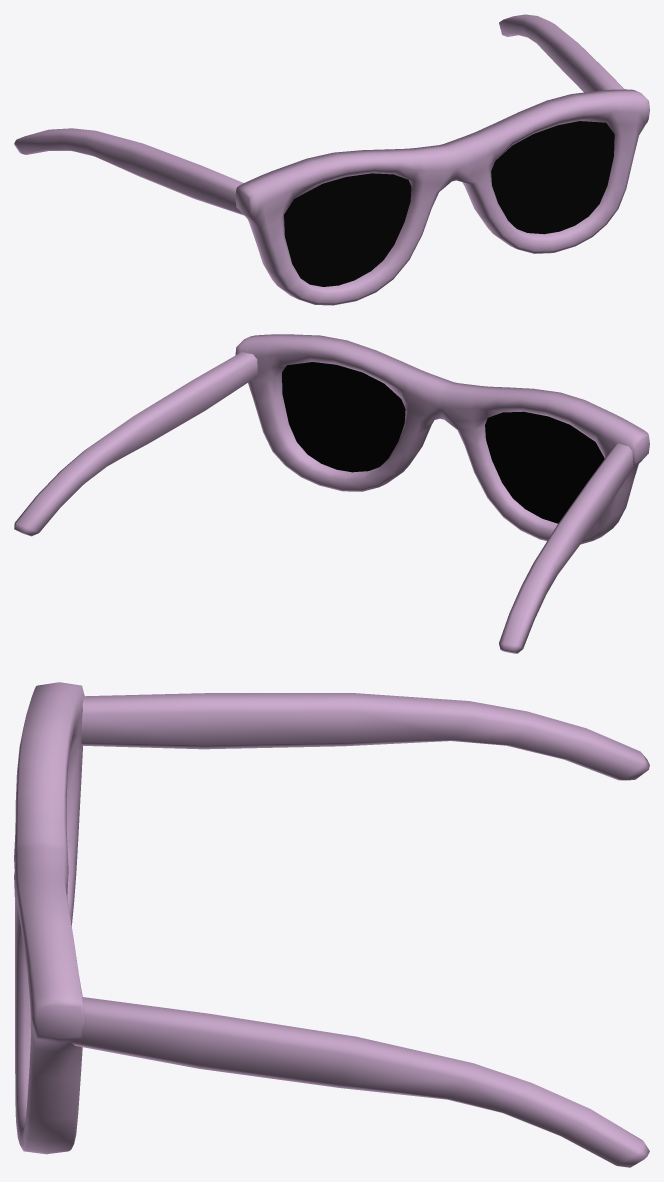
The picture shows the model from 3 angles, top to bottom: view 1: azimuth 30°, elevation 25°; view 2: azimuth 150°, elevation 25°; view 3: azimuth 270°, elevation 25°; orthographic projection. The views are drawn at different scales.
Parts seen in each view (by area): view 1: glassesSunglas; view 2: glassesSunglas; view 3: glassesSunglas.
Boxes of the visible parts, x1,y1,x2,y2 form: glassesSunglas: [14, 14, 649, 305]; glassesSunglas: [14, 334, 649, 653]; glassesSunglas: [14, 682, 649, 1167].
Size of the model in its own units: 0.4873 by 0.1318 by 0.3244.
Materials: 2 (2 with a texture image).
